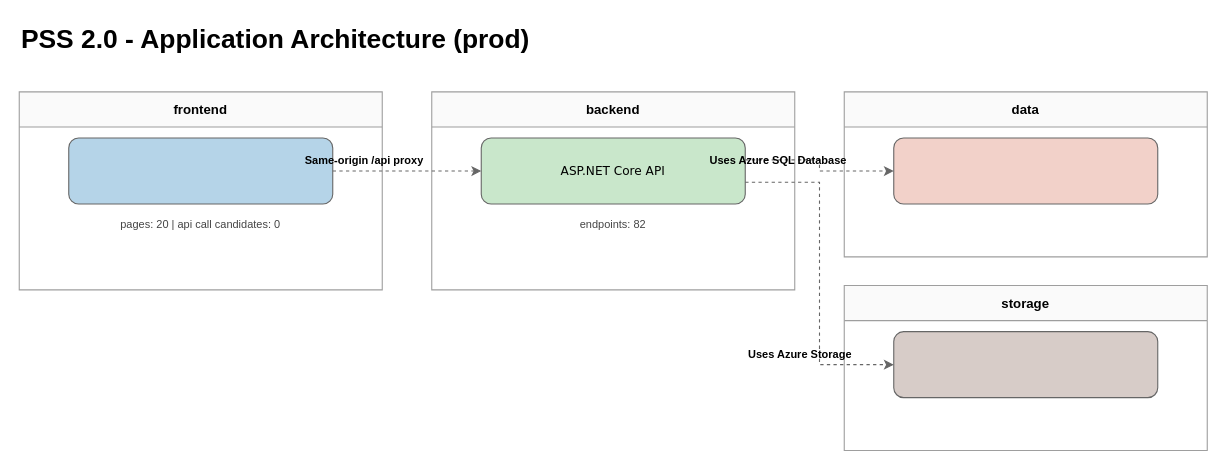
Some shapes in this 1227 by 470 pixel diagram are drawn without their labels. Here are the shapes that lost their labels. From the top down, the centre of each, then its label:
point (200, 170): Angular UI
point (1025, 170): Azure SQL Database
point (1025, 364): Azure Storage
